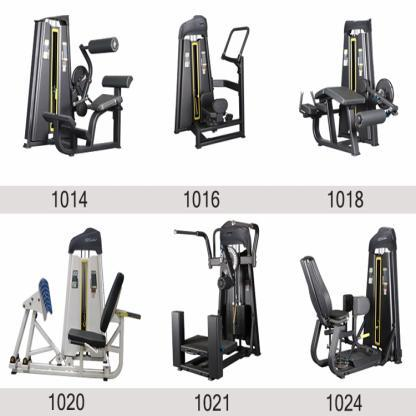lateral raises machine: (169, 220, 262, 381)
reg curl machine: (298, 18, 398, 157)
